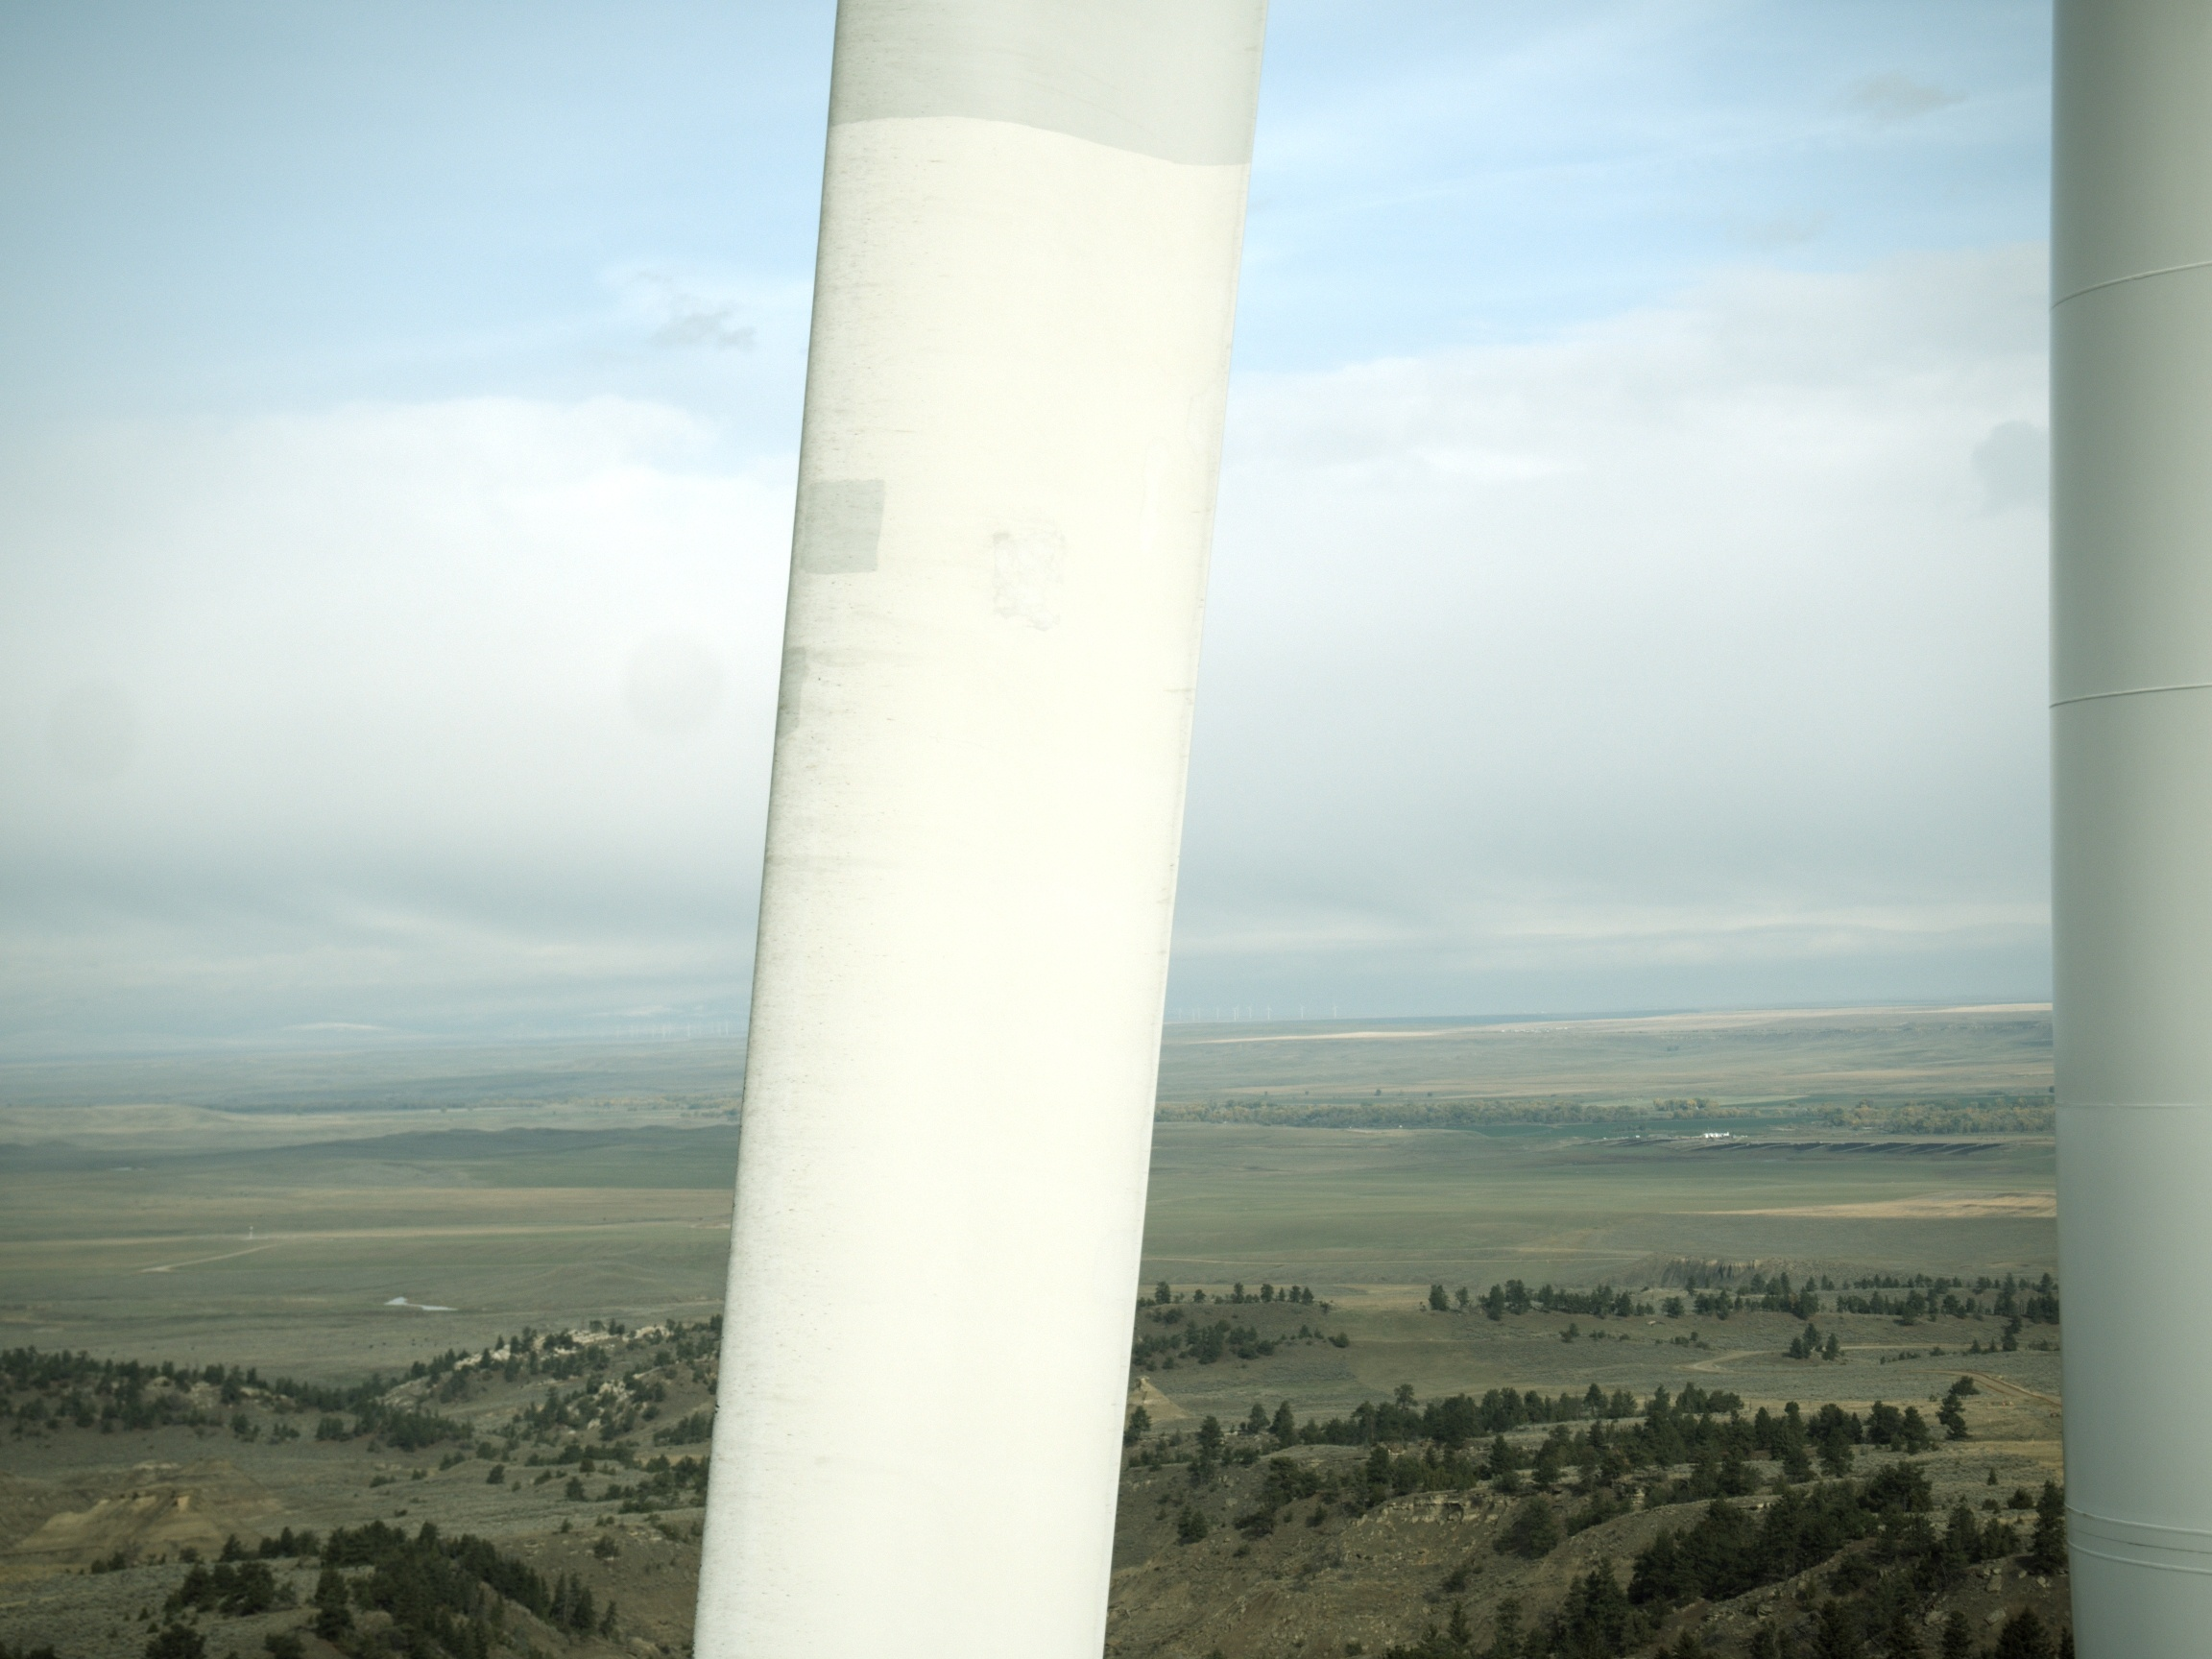chip: (714, 1410, 718, 1415), (716, 1405, 719, 1408)
